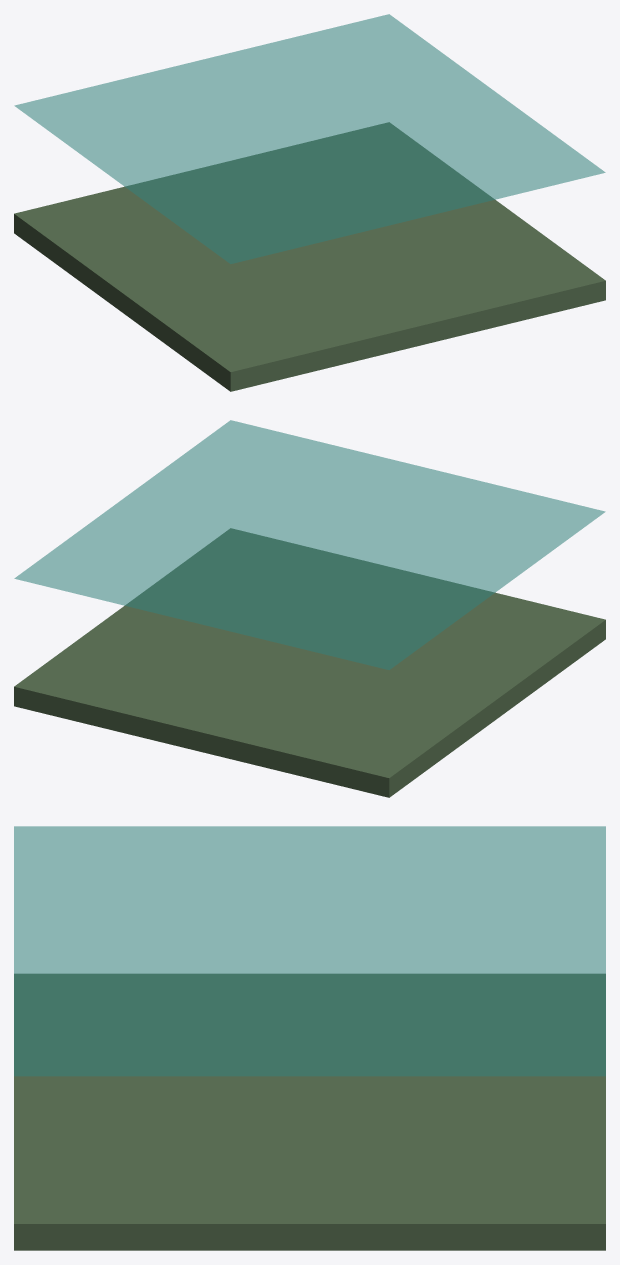
Rendered from city_canal_water_4.glb.
3 renders of one model, top to bottom at view 1: azimuth 30°, elevation 25°; view 2: azimuth 150°, elevation 25°; view 3: azimuth 270°, elevation 25°, orthographic. The views are drawn at different scales.
Visible parts, largest first — view 1: CityCanalWater4_Bed, CityCanalWater4_Water; view 2: CityCanalWater4_Bed, CityCanalWater4_Water; view 3: CityCanalWater4_Bed, CityCanalWater4_Water.
Part boxes in pixels (x1,y1,x2,y2): CityCanalWater4_Bed: (14,122,605,391); CityCanalWater4_Water: (14,14,605,263); CityCanalWater4_Bed: (14,528,605,797); CityCanalWater4_Water: (14,420,605,669); CityCanalWater4_Bed: (14,973,605,1250); CityCanalWater4_Water: (14,826,605,1076).
Size of the model in its own units: 4 by 1.3 by 4.
